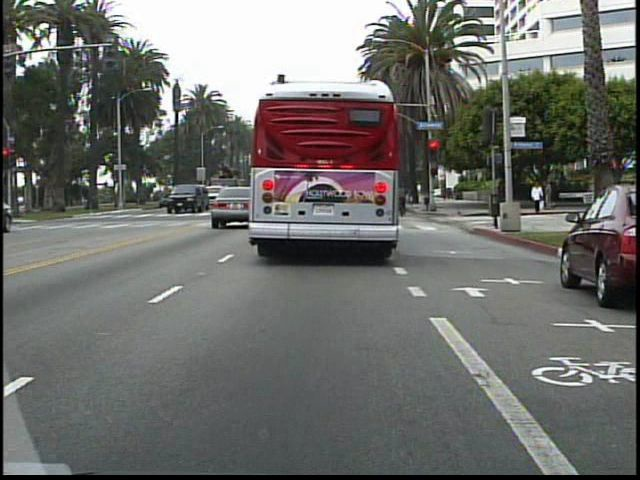person: (596, 173, 619, 228), (529, 180, 547, 217), (397, 181, 413, 216), (544, 179, 557, 213)
